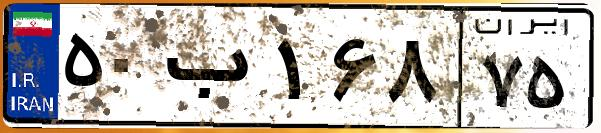0: (110, 28, 158, 98)
1: (270, 28, 330, 110)
5: (57, 26, 110, 100), (525, 38, 570, 115)
6: (330, 28, 385, 110)
7: (475, 38, 525, 113)
8: (385, 28, 445, 110)
ب: (158, 20, 270, 120)
